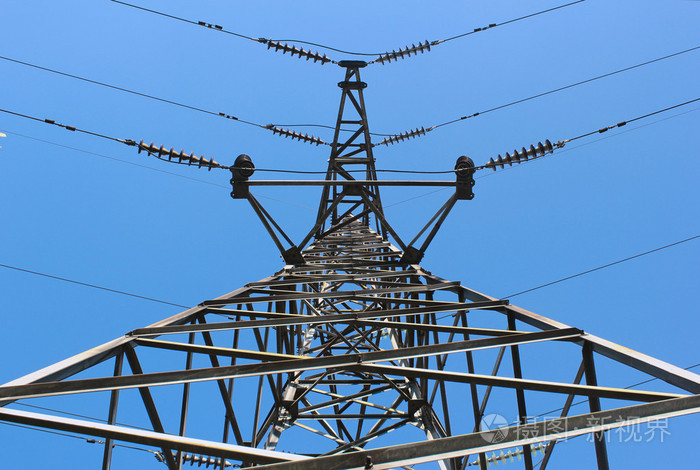insulator: (138, 138, 215, 170), (487, 139, 558, 169), (264, 39, 327, 65), (375, 39, 434, 64), (270, 125, 321, 147), (383, 123, 426, 144), (181, 451, 222, 469)
